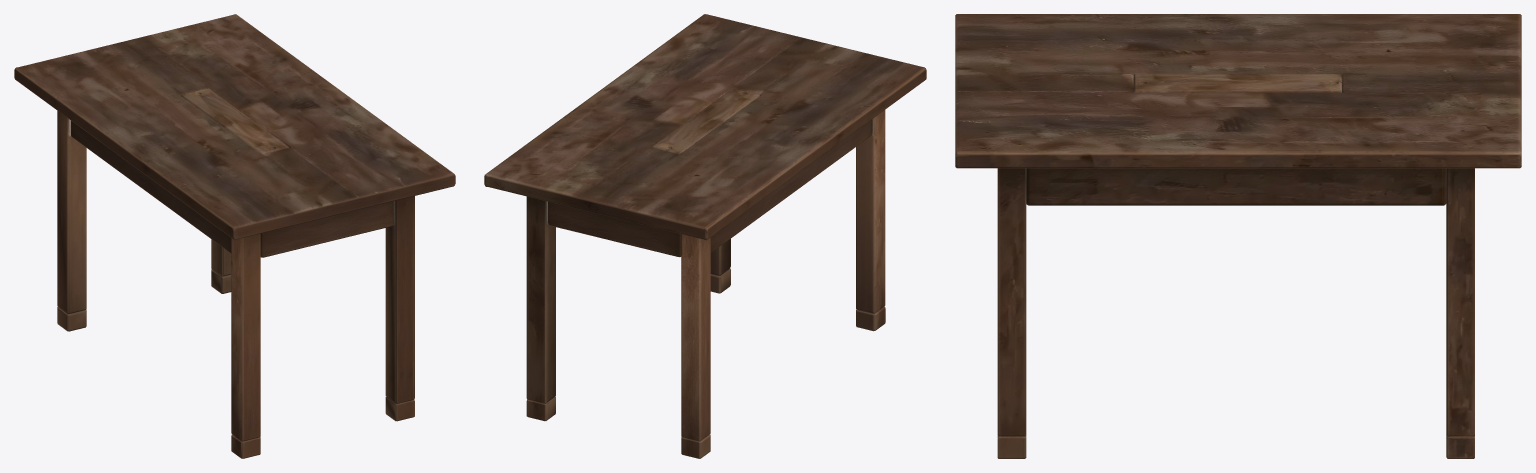
File: Furn_Table_Kitchen.fbx
3 renders of one model, left to right at view 1: azimuth 30°, elevation 25°; view 2: azimuth 150°, elevation 25°; view 3: azimuth 270°, elevation 25°, orthographic. The views are drawn at different scales.
Visible parts, largest first — view 1: Furn_Table_Kitchen_body, Furn_Table_Kitchen_Secret; view 2: Furn_Table_Kitchen_body, Furn_Table_Kitchen_Secret; view 3: Furn_Table_Kitchen_body, Furn_Table_Kitchen_Secret.
Boxes of the visible parts, <box> form: Furn_Table_Kitchen_body: <box>14,14,455,458</box>; Furn_Table_Kitchen_Secret: <box>181,88,288,154</box>; Furn_Table_Kitchen_body: <box>484,14,926,458</box>; Furn_Table_Kitchen_Secret: <box>652,88,759,154</box>; Furn_Table_Kitchen_body: <box>955,14,1521,458</box>; Furn_Table_Kitchen_Secret: <box>1131,72,1341,92</box>.
Bounding box in the file's own units: 69.86 × 75 × 119.
Materials: 1 (1 with a texture image).
